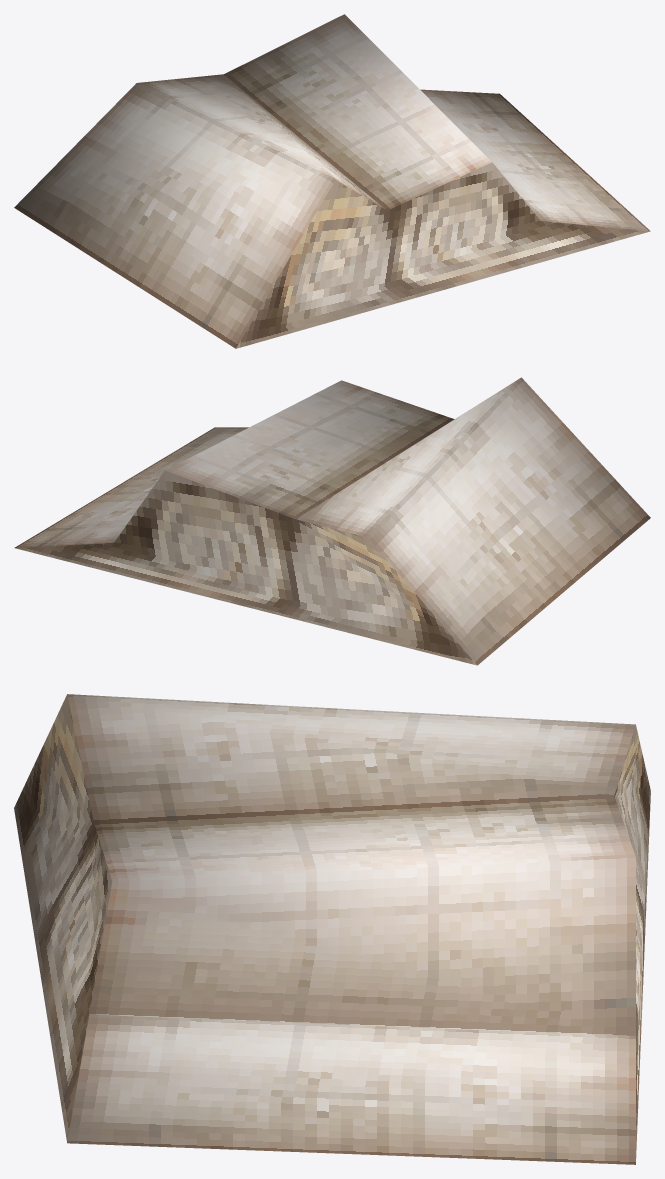
The model's file is a_SCgen22.glb.
The picture shows the model from 3 angles, top to bottom: view 1: azimuth 30°, elevation 25°; view 2: azimuth 150°, elevation 25°; view 3: azimuth 270°, elevation 25°; orthographic projection. The views are drawn at different scales.
Parts seen in each view (by area): view 1: a_SCgen22; view 2: a_SCgen22; view 3: a_SCgen22.
Part boxes in pixels (x1=…): a_SCgen22: x1=14, y1=14, x2=650, y2=348; a_SCgen22: x1=14, y1=377, x2=650, y2=665; a_SCgen22: x1=14, y1=694, x2=650, y2=1164.
Size of the model in its own units: 0.8118 by 0.207 by 0.5848.
1 material, 1 textured.
